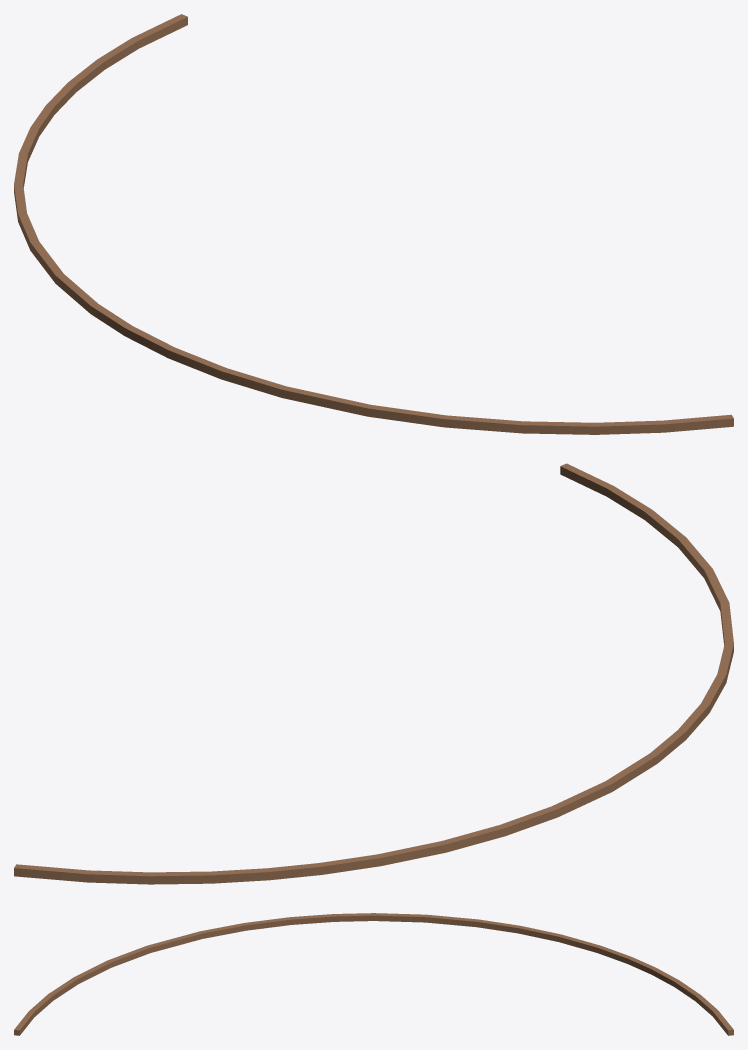
File: S_Metal_Stem_03.fbx
3 renders of one model, top to bottom at view 1: azimuth 30°, elevation 25°; view 2: azimuth 150°, elevation 25°; view 3: azimuth 270°, elevation 25°, orthographic. The views are drawn at different scales.
Visible parts, largest first — view 1: S_Metal_Stem_03; view 2: S_Metal_Stem_03; view 3: S_Metal_Stem_03.
Boxes of the visible parts, box(x1,y1,x2,y2) form: S_Metal_Stem_03: box(14, 14, 733, 434); S_Metal_Stem_03: box(14, 463, 733, 884); S_Metal_Stem_03: box(14, 913, 733, 1035).
Size of the model in its own units: 158 by 3.38 by 408.
